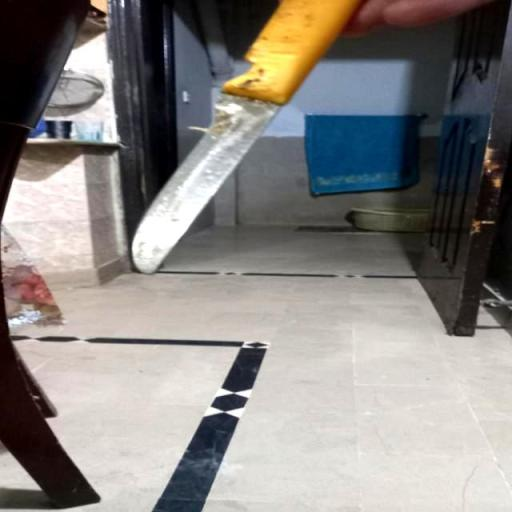knife: (68, 2, 402, 280)
